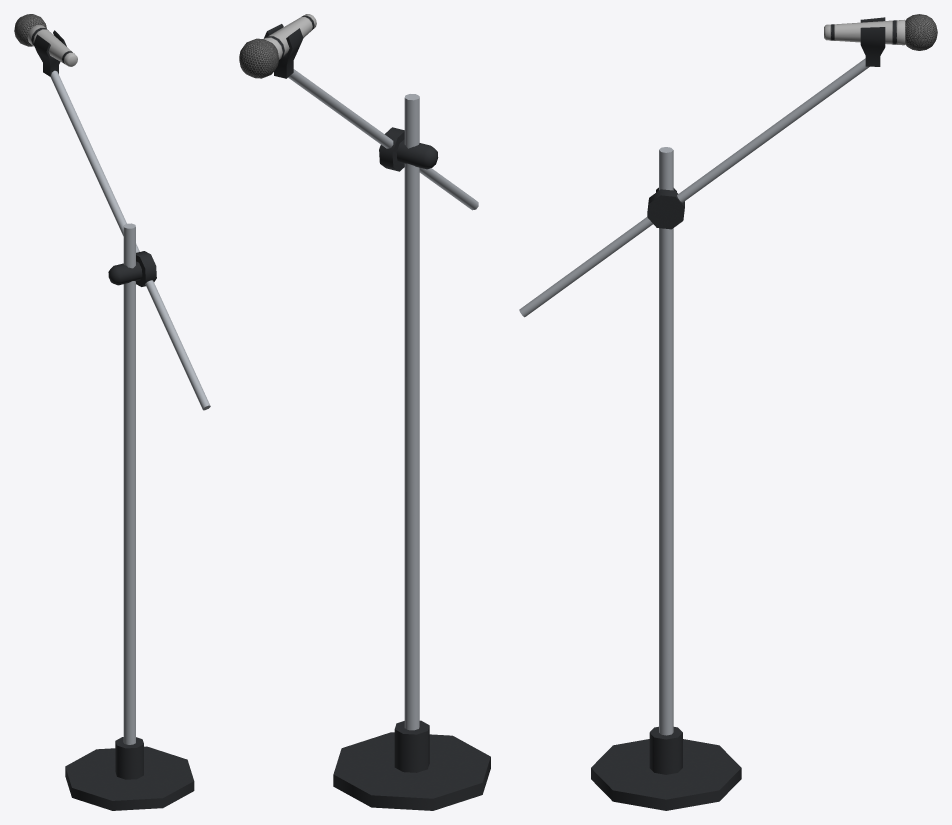
Rendered from ARC0810082.fbx.
3 views of the same model, side by side, from view 1: azimuth 30°, elevation 25°; view 2: azimuth 150°, elevation 25°; view 3: azimuth 270°, elevation 25° (orthographic). The views are drawn at different scales.
Parts seen in each view (by area): view 1: smARC0810082; view 2: smARC0810082; view 3: smARC0810082.
Part boxes in pixels (x1,y1,x2,y2): smARC0810082: (14, 14, 210, 810); smARC0810082: (239, 14, 490, 810); smARC0810082: (519, 14, 937, 810).
Size of the model in its own units: 27.67 by 156 by 76.92.
1 material, 1 textured.
